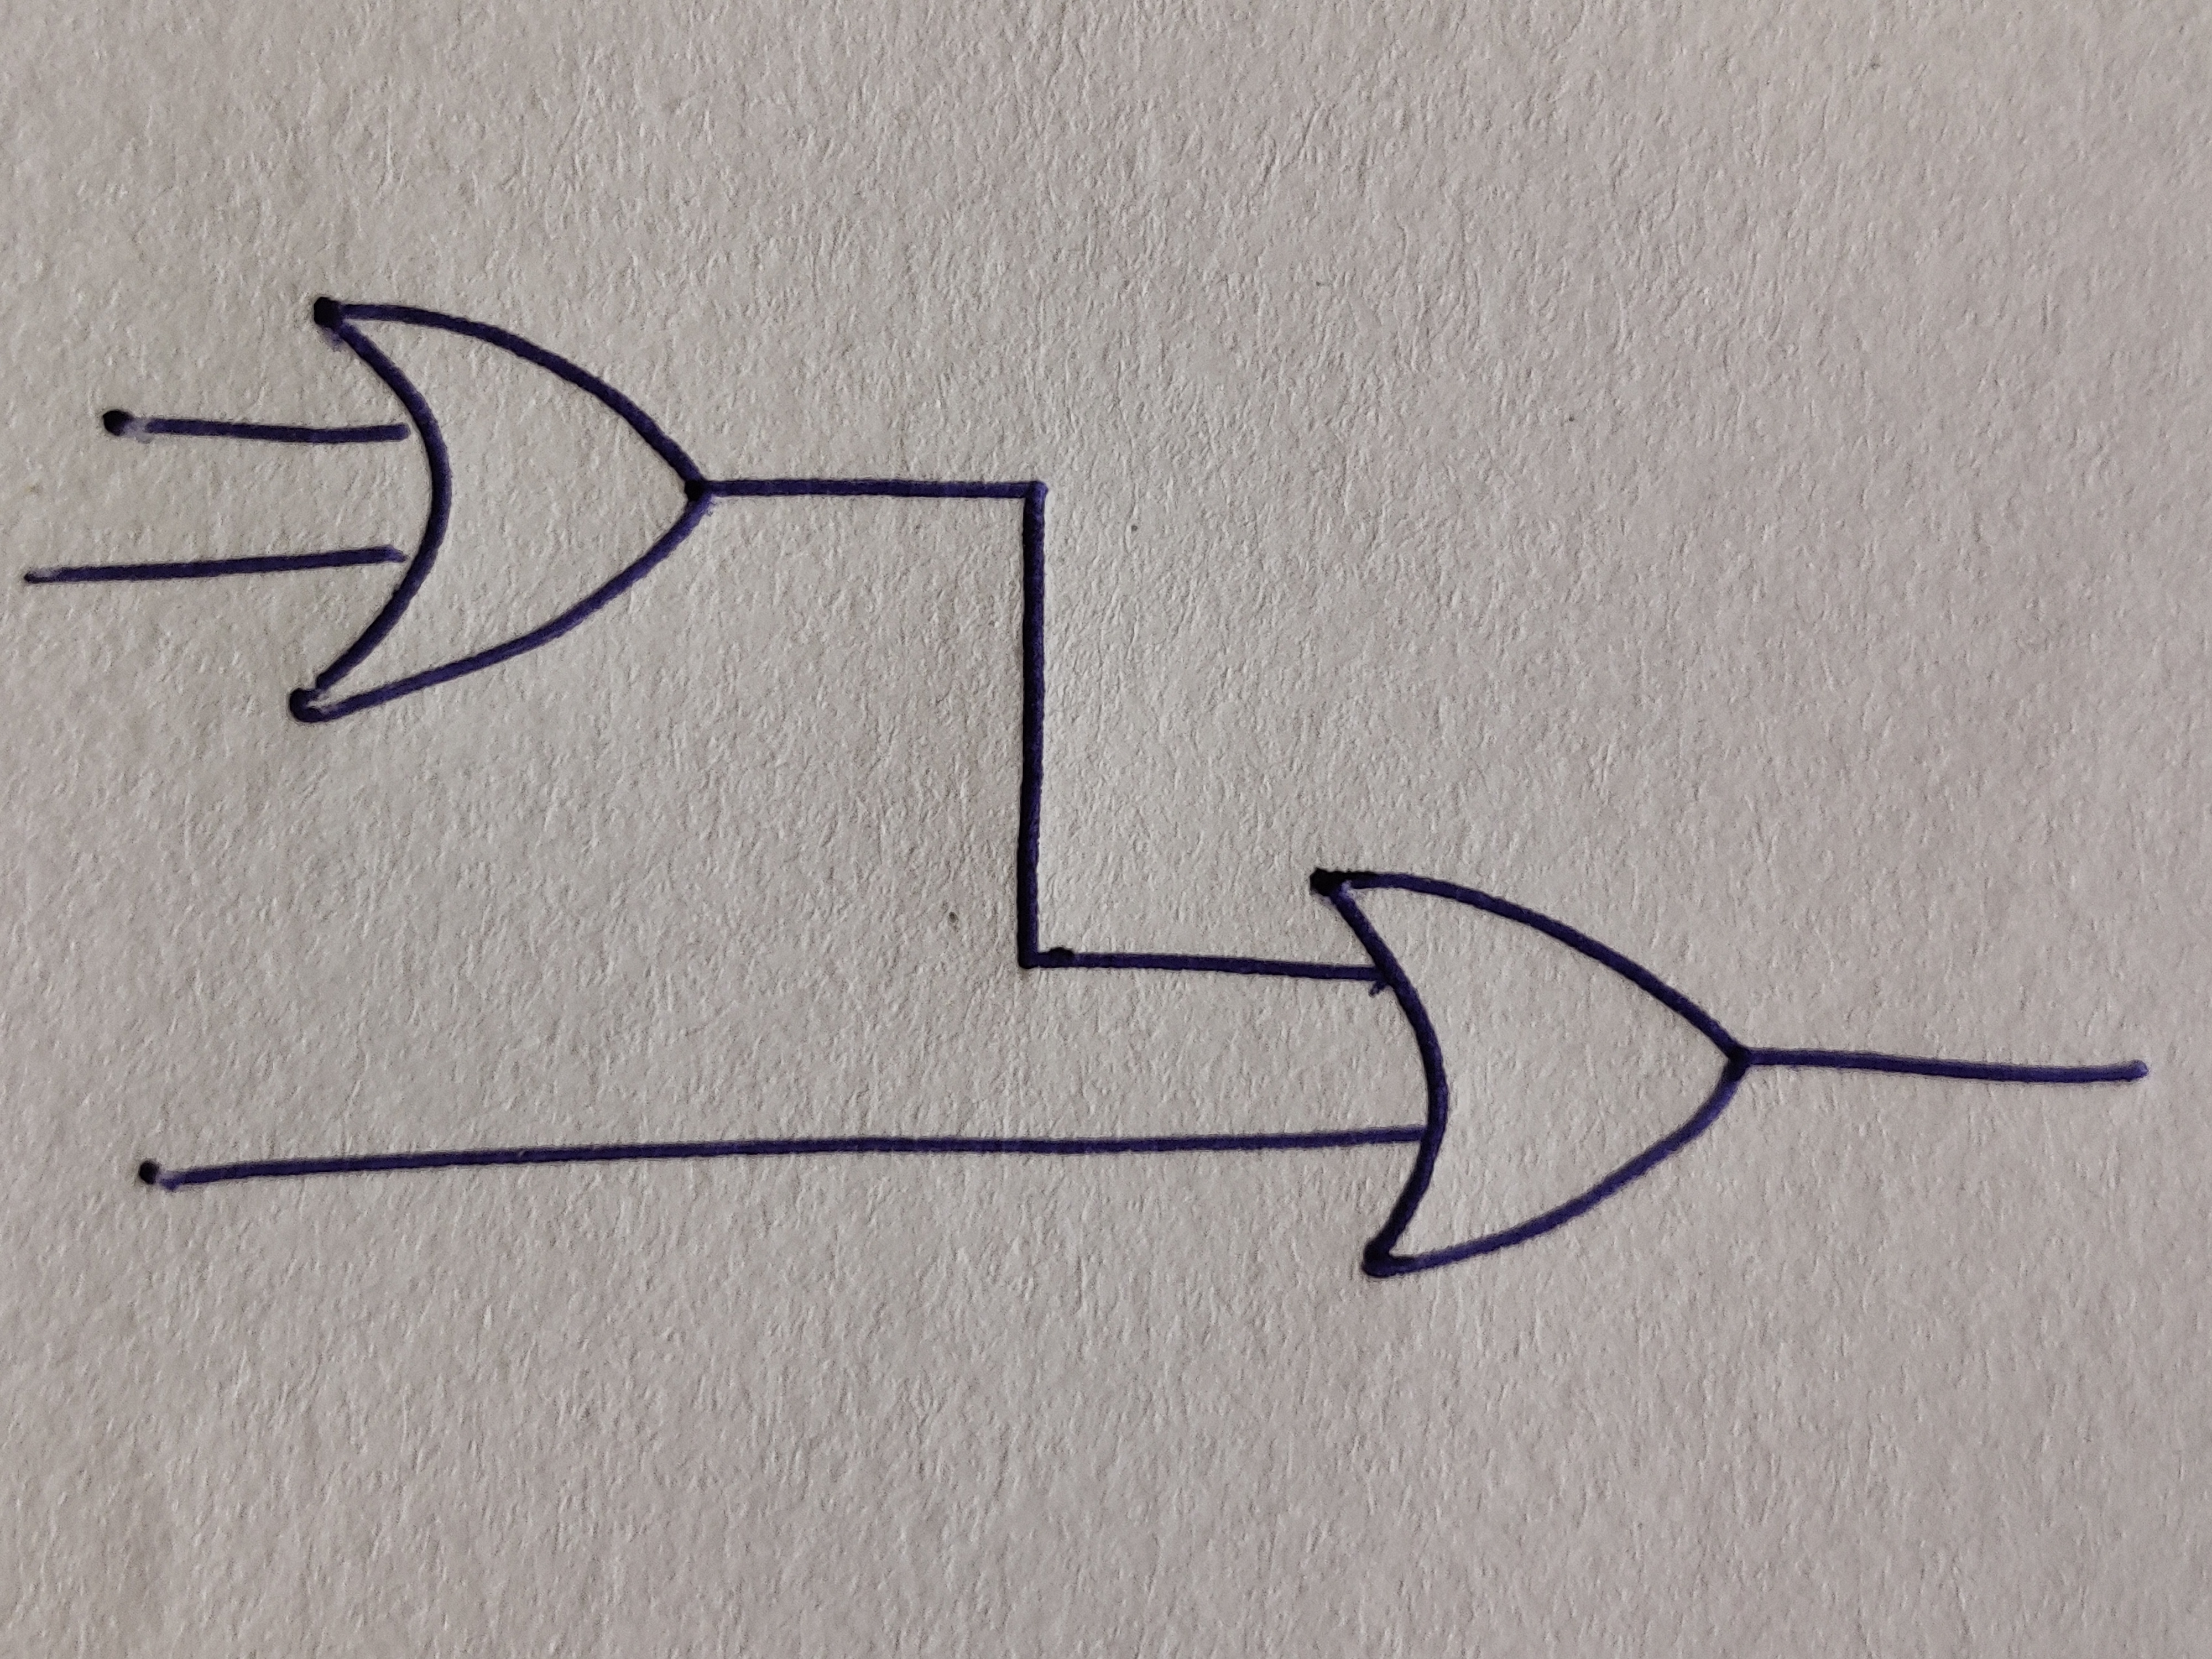or: (284, 295, 709, 728), (1310, 868, 1747, 1281)
